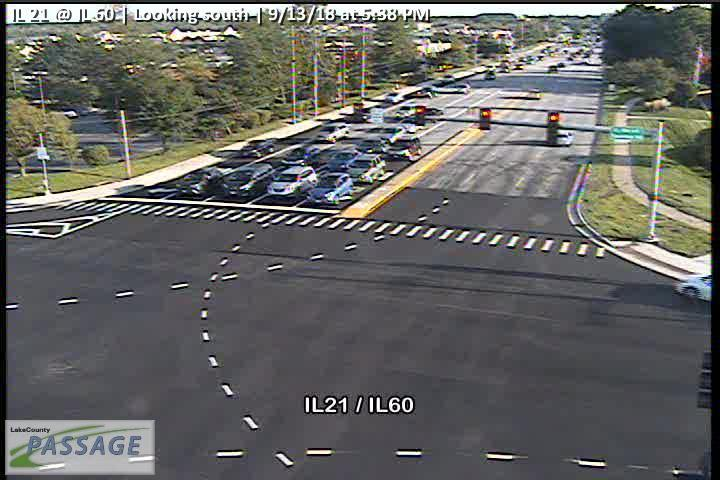SUV: (221, 162, 277, 199)
Sedan: (265, 166, 316, 199), (173, 166, 223, 198), (306, 172, 353, 206), (344, 153, 387, 185), (277, 145, 321, 168), (314, 120, 352, 144), (386, 135, 423, 159), (238, 137, 278, 159), (354, 134, 388, 152)
